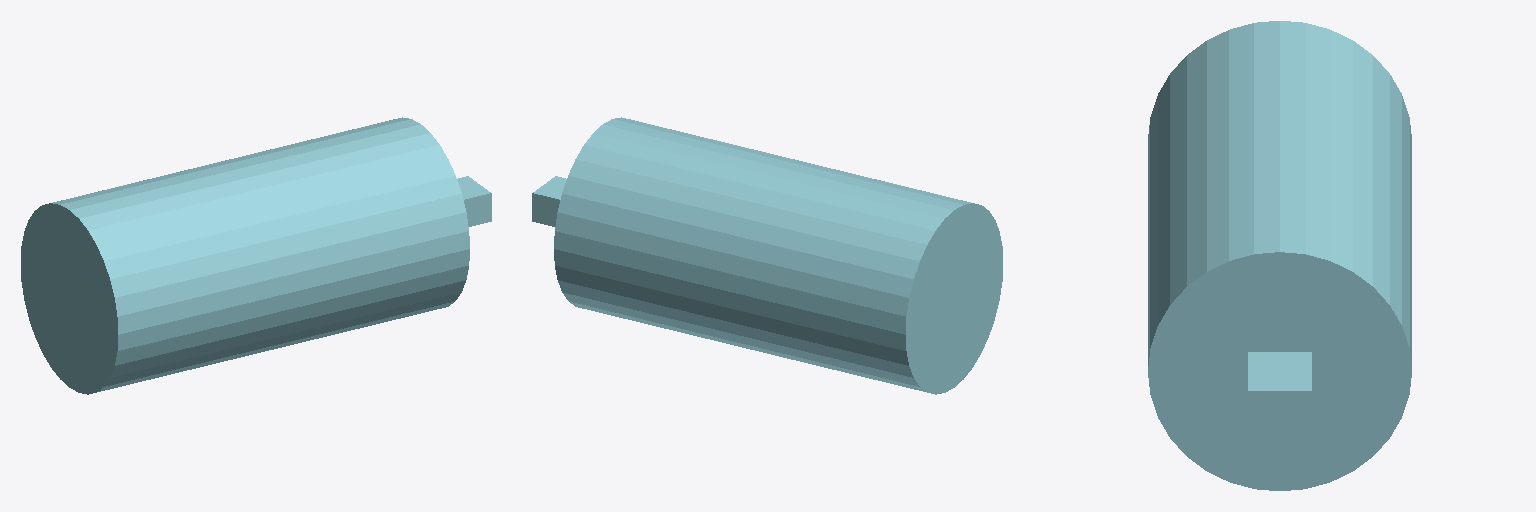
URDF robot description (cylinder_marker_v4008):
<?xml version="1.0"?>
<robot name="cylinder_marker_v4008">

  <link name="cylinder_marker_v4008">
    <!-- Handle -->
    <visual>
      <origin xyz="0 0 0" rpy="0 1.5707963267948966 0"/>
      <geometry>
        <cylinder length="0.07717496274033521" radius="0.018612420870617204"/>
      </geometry>
      <material name="material">
        <color rgba="0.639 0.847 0.882 1.0"/>
      </material>
    </visual>
    <collision>
      <origin xyz="0 0 0" rpy="0 1.5707963267948966 0"/>
      <geometry>
        <cylinder length="0.07717496274033521" radius="0.018612420870617204"/>
      </geometry>
    </collision>

    <!-- Head -->
    <visual>
      <origin xyz="0.04501770012183395 0 0" rpy="0 0 0"/>
      <geometry>
        <box size="0.0128604375033327 0.008883839703461092 0.0059910211360644896"/>
      </geometry>
      <material name="material">
        <color rgba="0.639 0.847 0.882 1.0"/>
      </material>
    </visual>
    <collision>
      <origin xyz="0.04501770012183395 0 0" rpy="0 0 0"/>
      <geometry>
        <box size="0.0128604375033327 0.008883839703461092 0.0059910211360644896"/>
      </geometry>
    </collision>

    <inertial>
      <density value="400.0"/>
    </inertial>
  </link>

</robot>

--- Render facts (derived) ---
Views: 3 orthographic renders of the robot side by side, from view 1: azimuth 30°, elevation 25°; view 2: azimuth 150°, elevation 25°; view 3: azimuth 270°, elevation 25°.
Robot: cylinder_marker_v4008 — 1 links, 0 joints (none); root link cylinder_marker_v4008; default pose: every joint at zero.
Links seen in each view (by area): view 1: cylinder_marker_v4008; view 2: cylinder_marker_v4008; view 3: cylinder_marker_v4008.
Boxes of the visible links, x1,y1,x2,y2 form: cylinder_marker_v4008: [21, 117, 491, 394]; cylinder_marker_v4008: [532, 117, 1002, 394]; cylinder_marker_v4008: [1148, 21, 1411, 490].
Bounding box of the posed robot: 0.09 × 0.0372 × 0.0372 m (x, y, z).
Geometry: primitives only (box / cylinder / sphere), no mesh files.
